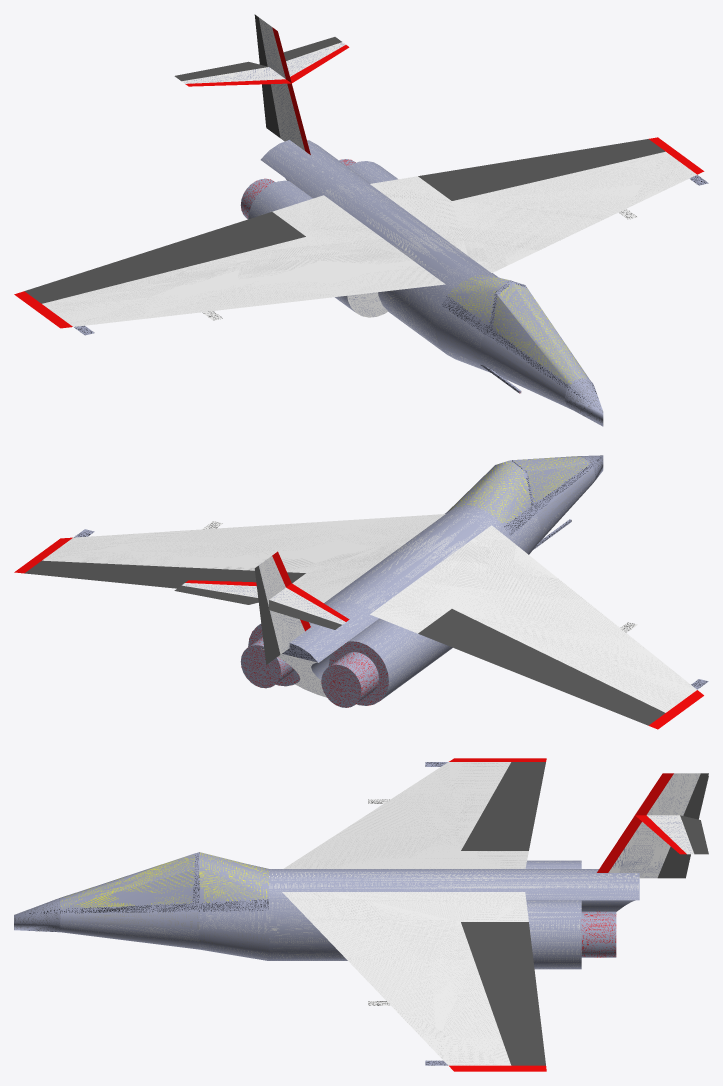
File: wair_plane_2.obj
The picture shows the model from 3 angles, top to bottom: view 1: azimuth 30°, elevation 25°; view 2: azimuth 150°, elevation 25°; view 3: azimuth 270°, elevation 25°; orthographic projection.
Parts seen in each view (by area): view 1: Mesh14 Model, Mesh1 Group1 Model, Mesh15 Model; view 2: Mesh14 Model, Mesh1 Group1 Model, Mesh15 Model; view 3: Mesh14 Model, Mesh1 Group1 Model, Mesh15 Model.
Part boxes in pixels (x1,y1,x2,y2): Mesh14 Model: (14,137,704,328); Mesh1 Group1 Model: (240,140,603,426); Mesh15 Model: (174,14,349,154); Mesh14 Model: (14,514,703,729); Mesh1 Group1 Model: (240,455,603,707); Mesh15 Model: (174,551,349,664); Mesh14 Model: (282,758,546,1071); Mesh1 Group1 Model: (14,852,639,969); Mesh15 Model: (597,773,708,878).
Bounding box in the file's own units: 32 × 8.75 × 30.
